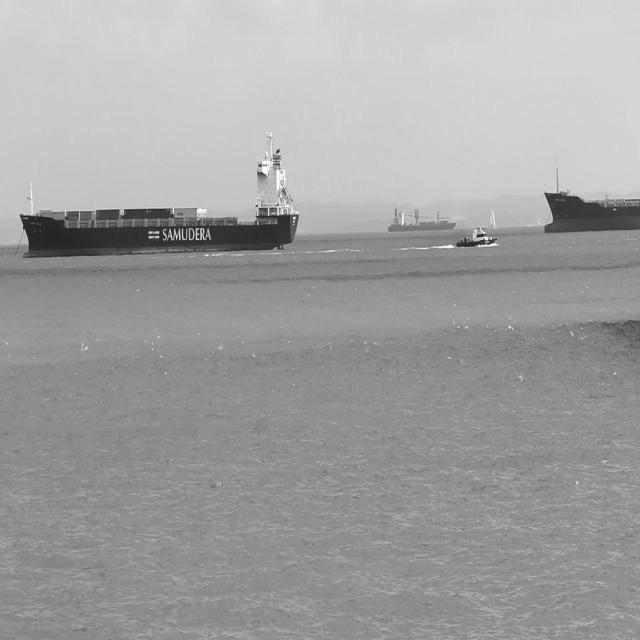ship: (18, 129, 300, 259), (544, 158, 640, 234), (387, 206, 457, 233), (456, 226, 498, 248), (489, 208, 497, 232), (476, 224, 486, 231)
